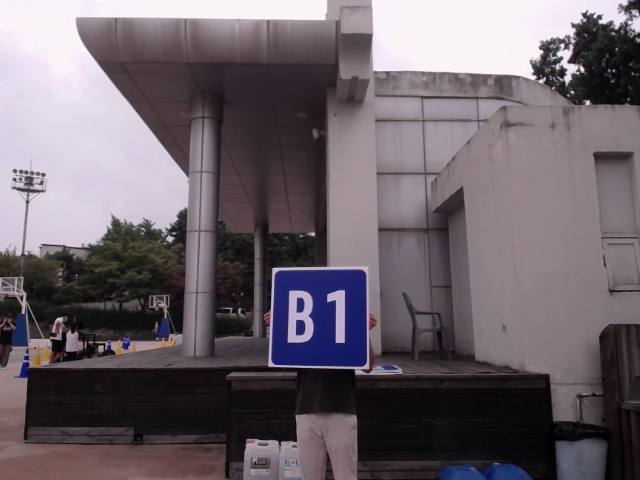delivery_b1: (271, 268, 369, 368)
